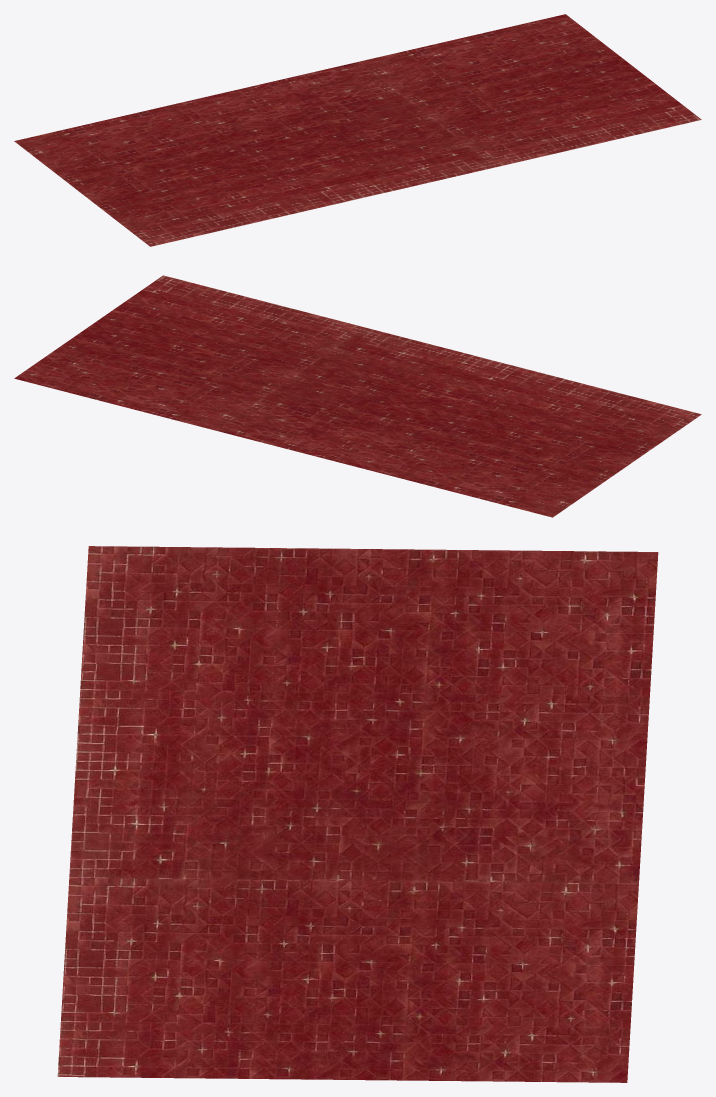
File: коврик.glb
3 views of the same model, one above another, from view 1: azimuth 30°, elevation 25°; view 2: azimuth 150°, elevation 25°; view 3: azimuth 270°, elevation 25° (orthographic). The views are drawn at different scales.
Parts seen in each view (by area): view 1: коврик; view 2: коврик; view 3: коврик.
Boxes of the visible parts, bbox=[...] form: коврик: bbox=[14, 14, 701, 246]; коврик: bbox=[14, 275, 701, 517]; коврик: bbox=[57, 546, 658, 1082].
Bounding box in the file's own units: 1.87 × 0 × 0.8858.
Materials: 1 (1 with a texture image).
